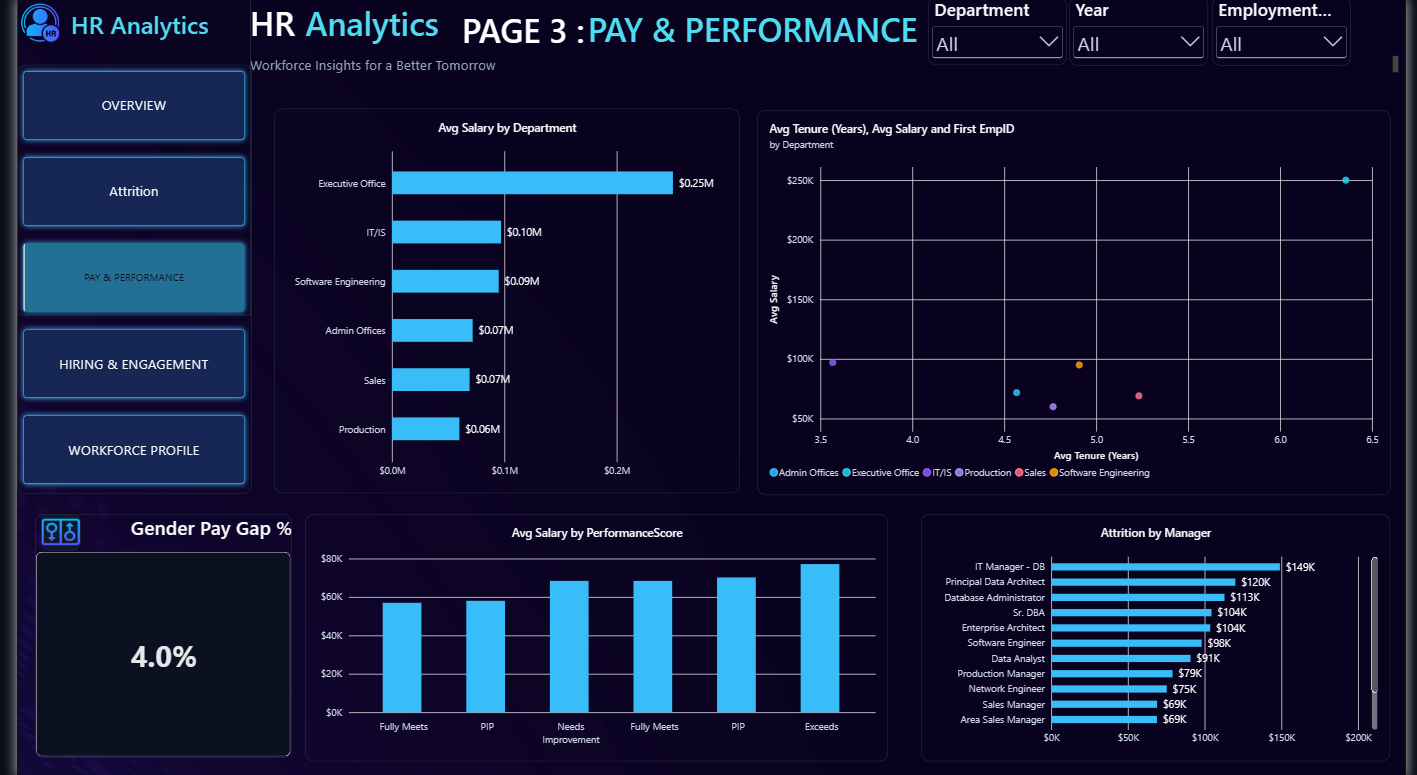

What the dashboard file says about the page in this screenshot:
{"tool":"powerbi","page":{"name":"PAY & PERFORMANCE","canvas":[1920,1080],"ordinal":2},"visuals":[{"type":"textbox","title":"HR ","box":[322.5,0,1597,105],"z":0,"group":"g1"},{"type":"group","id":"g1","title":"Group 6","box":[322.5,0,1597,105],"z":0},{"type":"cardVisual","title":"Gender Pay Gap %","fields":{"Data":["measure.Gender Pay Gap %"]},"box":[24.4,714.1,354.8,337.3],"z":0,"group":"g2"},{"type":"shape","box":[0,0,323.3,440],"z":1000},{"type":"image","box":[32.8,714,55,50],"z":1000,"group":"g2"},{"type":"textbox","title":"PAGE 3 :","box":[616,9.2,187.6,73.5],"z":2000},{"type":"image","box":[2.5,3.5,60,62.5],"z":3000},{"type":"textbox","title":"HR Analytics","box":[62.5,10,212.5,51.2],"z":4000},{"type":"textbox","title":"Analytics","box":[397.5,0,200,70],"z":5000},{"type":"slicer","fields":{"Values":["HRDataset_v14.Department"]},"box":[1258.7,0,192.2,93.9],"z":6000},{"type":"slicer","fields":{"Values":["DimDate.Year"]},"box":[1455.5,0,192.2,95.2],"z":7000},{"type":"slicer","fields":{"Values":["HRDataset_v14.EmploymentStatus"]},"box":[1652.2,0,192.2,95.2],"z":8000},{"type":"pageNavigator","box":[0,94.2,324.1,593.5],"z":9000},{"type":"textbox","title":"PAY & PERFORMANCE","box":[789,7,569.4,72.3],"z":10000},{"type":"barChart","fields":{"Category":["HRDataset_v14.Department"],"Y":["measure.Avg Salary"]},"box":[355,155,643.3,531.7],"z":11000},{"type":"columnChart","fields":{"Category":["HRDataset_v14.PerformanceScore"],"Y":["measure.Avg Salary"]},"box":[398.6,714,805.9,341.6],"z":12000},{"type":"barChart","title":"Attrition by Manager","fields":{"Category":["HRDataset_v14.Position"],"Y":["measure.Avg Salary"]},"box":[1250.5,714,648.3,341.6],"z":13000},{"type":"group","id":"g2","title":"Group 1","box":[24.4,714,354.8,337.4],"z":15000},{"type":"scatterChart","fields":{"Series":["HRDataset_v14.Department"],"X":["measure.Avg Tenure (Years)"],"Y":["measure.Avg Salary"]},"box":[1022.8,155.5,876,532.2],"z":16000}]}

Visuals, with their boxes in screenshot pixels (x1, y1, x2, y2), scaled from the page's 1920x1080 canvas onto the 1417x775 screenshot:
"HR " textbox: <bbox>238, 0, 1416, 75</bbox>
"Group 6" group: <bbox>238, 0, 1416, 75</bbox>
"Gender Pay Gap %" cardVisual: <bbox>18, 512, 280, 754</bbox>
shape: <bbox>0, 0, 239, 316</bbox>
image: <bbox>24, 512, 65, 548</bbox>
"PAGE 3 :" textbox: <bbox>455, 7, 593, 59</bbox>
image: <bbox>2, 3, 46, 47</bbox>
"HR Analytics" textbox: <bbox>46, 7, 203, 44</bbox>
"Analytics" textbox: <bbox>293, 0, 441, 50</bbox>
slicer - HRDataset_v14.Department: <bbox>929, 0, 1071, 67</bbox>
slicer - DimDate.Year: <bbox>1074, 0, 1216, 68</bbox>
slicer - HRDataset_v14.EmploymentStatus: <bbox>1219, 0, 1361, 68</bbox>
pageNavigator: <bbox>0, 68, 239, 493</bbox>
"PAY & PERFORMANCE" textbox: <bbox>582, 5, 1003, 57</bbox>
barChart - HRDataset_v14.Department x measure.Avg Salary: <bbox>262, 111, 737, 493</bbox>
columnChart - HRDataset_v14.PerformanceScore x measure.Avg Salary: <bbox>294, 512, 889, 757</bbox>
"Attrition by Manager" barChart: <bbox>923, 512, 1401, 757</bbox>
"Group 1" group: <bbox>18, 512, 280, 754</bbox>
scatterChart - HRDataset_v14.Department x measure.Avg Tenure (Years): <bbox>755, 112, 1401, 493</bbox>
